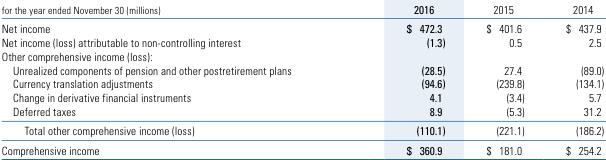table: (0, 1, 603, 156)
table column: (0, 1, 348, 156), (348, 1, 464, 156), (464, 1, 544, 156), (544, 1, 603, 156)
table column header: (0, 1, 603, 18)
table projected row header: (0, 48, 603, 62)
table row: (0, 120, 603, 139), (0, 1, 603, 18), (0, 139, 603, 156), (0, 18, 603, 34), (0, 104, 603, 120), (0, 34, 603, 48), (0, 48, 603, 62), (0, 62, 603, 76), (0, 76, 603, 90), (0, 90, 603, 104)
